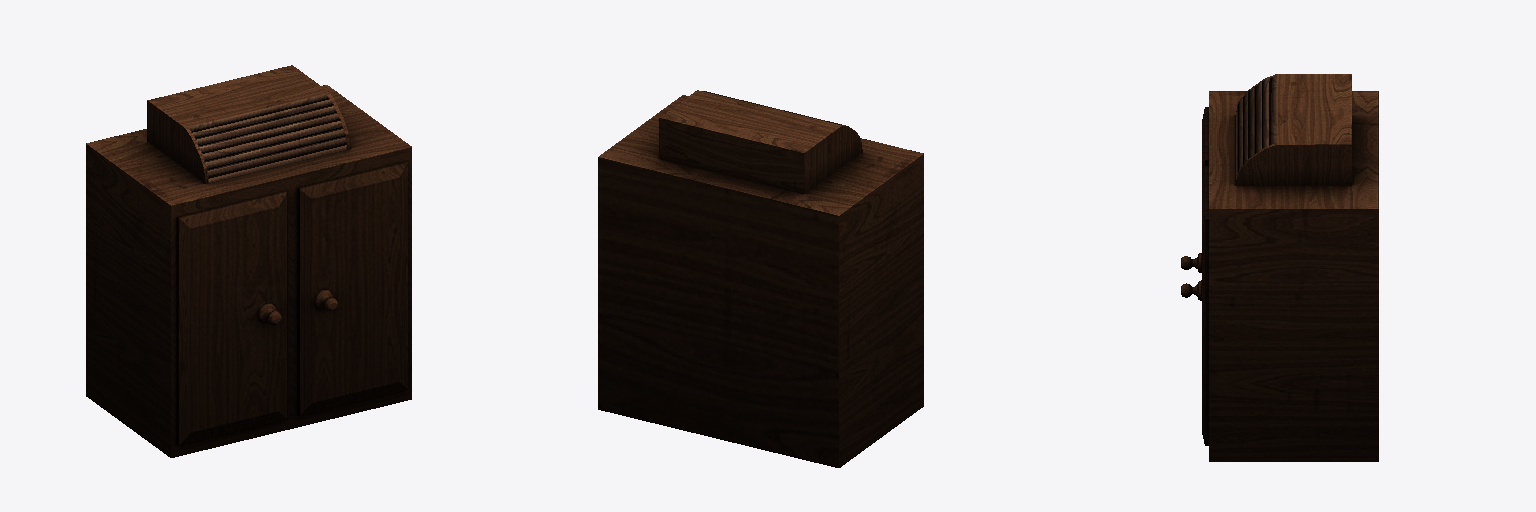
The picture shows the model from 3 angles: view 1: azimuth 30°, elevation 25°; view 2: azimuth 150°, elevation 25°; view 3: azimuth 270°, elevation 25°; orthographic projection.
Parts seen in each view (by area): view 1: Cube; view 2: Cube; view 3: Cube.
Part boxes in pixels (bbox=[...]): Cube: bbox=[86, 65, 411, 457]; Cube: bbox=[598, 90, 923, 467]; Cube: bbox=[1181, 74, 1378, 461].
Bounding box in the file's own units: 1.45 × 1.69 × 1.03.
1 materials, 1 textured.